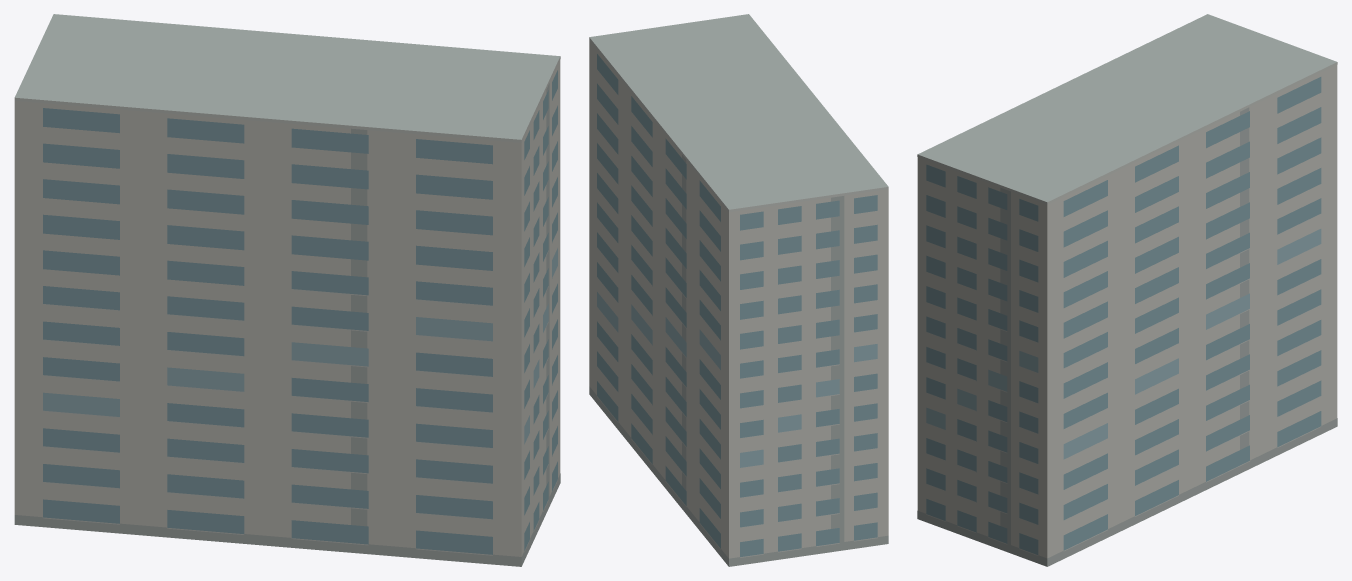
Rendered from residential-aafe3424-ba89-41a9-aeed-9f9ec660edbe.glb.
3 renders of one model, left to right at view 1: azimuth 30°, elevation 25°; view 2: azimuth 150°, elevation 25°; view 3: azimuth 270°, elevation 25°, orthographic. The views are drawn at different scales.
Parts seen in each view (by area): view 1: residential-aafe3424-ba89-41a9-aeed-9f9ec660edbe.tmp; view 2: residential-aafe3424-ba89-41a9-aeed-9f9ec660edbe.tmp; view 3: residential-aafe3424-ba89-41a9-aeed-9f9ec660edbe.tmp.
Part boxes in pixels (bbox=[...]): residential-aafe3424-ba89-41a9-aeed-9f9ec660edbe.tmp: bbox=[14, 14, 560, 566]; residential-aafe3424-ba89-41a9-aeed-9f9ec660edbe.tmp: bbox=[589, 14, 888, 566]; residential-aafe3424-ba89-41a9-aeed-9f9ec660edbe.tmp: bbox=[917, 14, 1337, 566].
Bounding box in the file's own units: 37.67 × 34 × 35.5.
